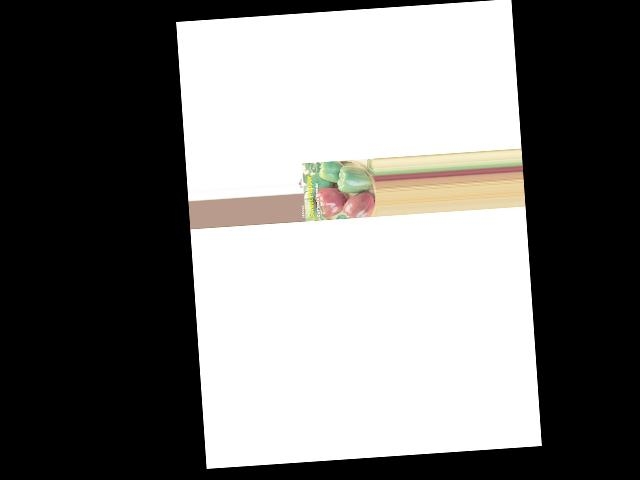bell_pepper: (316, 159, 348, 181)
